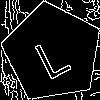L: (27, 27, 74, 81)
